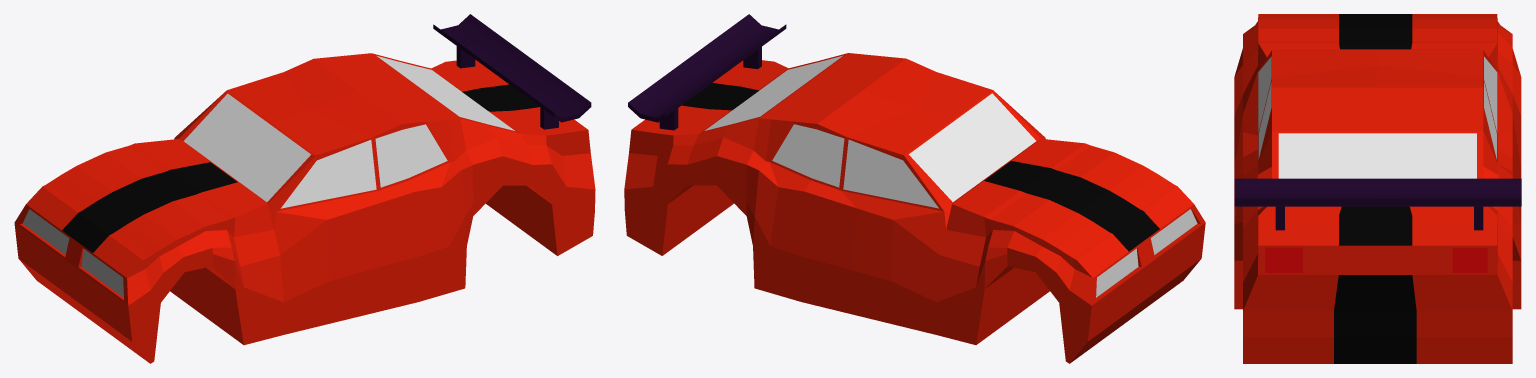
The model's file is Sportscar.fbx.
The picture shows the model from 3 angles, left to right: view 1: azimuth 30°, elevation 25°; view 2: azimuth 150°, elevation 25°; view 3: azimuth 270°, elevation 25°; orthographic projection. The views are drawn at different scales.
Visible parts, largest first — view 1: pCube6; view 2: pCube6; view 3: pCube6.
Part boxes in pixels (left/top/right/bottom): pCube6: left=14, top=14, right=595, bottom=363; pCube6: left=624, top=14, right=1205, bottom=363; pCube6: left=1234, top=14, right=1521, bottom=363.
Size of the model in its own units: 16.17 by 5.5 by 7.24.
